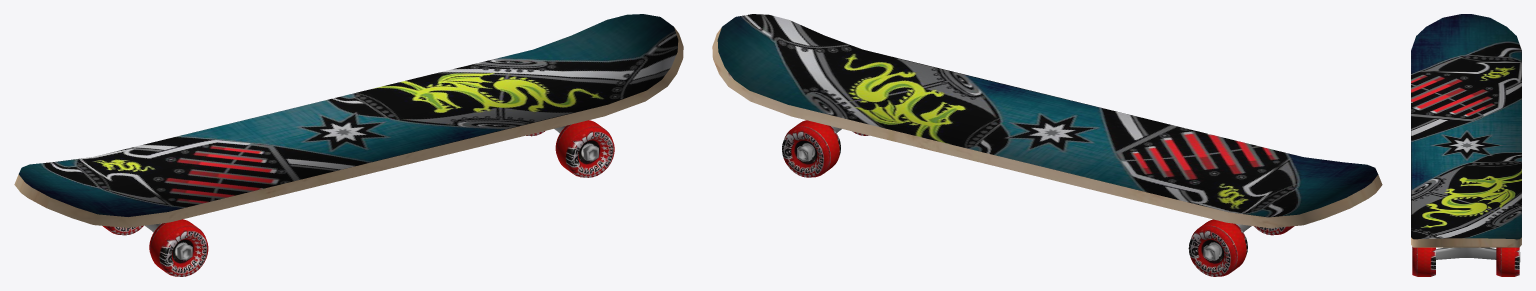
The model's file is skateboard.glb.
3 views of the same model, side by side, from view 1: azimuth 30°, elevation 25°; view 2: azimuth 150°, elevation 25°; view 3: azimuth 270°, elevation 25° (orthographic). The views are drawn at different scales.
Visible parts, largest first — view 1: board01, wheel01.003, wheel01.000; view 2: board01, wheel01.002, wheel01.001; view 3: board01, undercarriage, wheel01.000, wheel01.001.
Part boxes in pixels (x1,y1,x2,y2): board01: (14,14,683,227); wheel01.003: (149,219,208,276); wheel01.000: (555,120,614,177); board01: (712,14,1382,228); wheel01.002: (1188,219,1247,276); wheel01.001: (782,120,840,177); board01: (1411,14,1521,247); undercarriage: (1436,247,1520,262); wheel01.000: (1412,246,1435,276); wheel01.001: (1496,247,1519,276).
Size of the model in its own units: 2.97 by 0.4552 by 0.5972.
3 materials, 2 textured.
